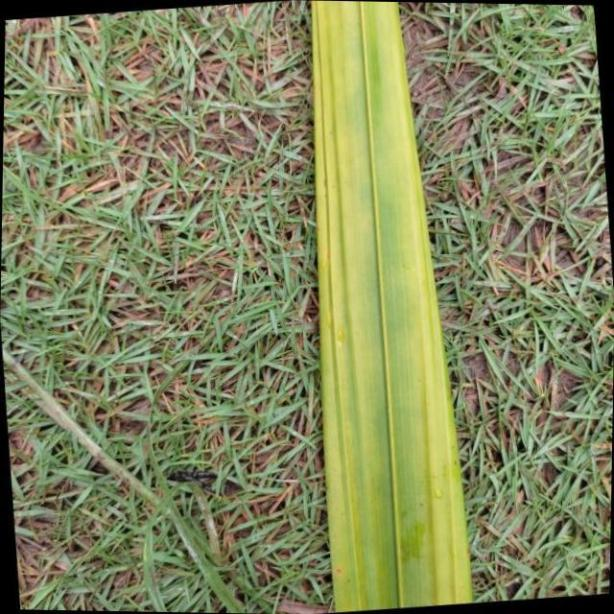nitrogen: (311, 5, 472, 614)
